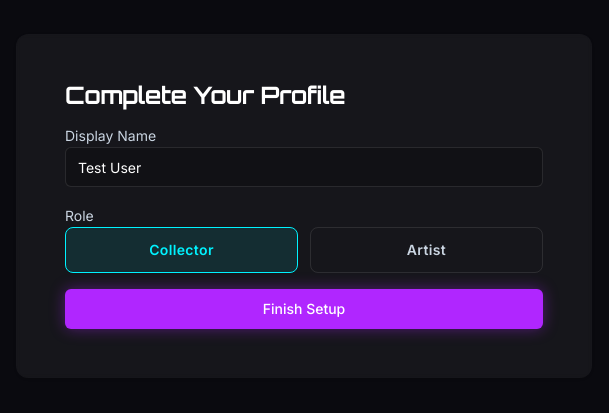
Test: OnboardingPage in Normal Mode › should handle fetch exception
Expected: the field with placeholder "Your name" holds "Test User", [65,147,543,187]
What coordinates should you click on to do the following:
click the button "Finish Setup"
I would click on:
 (304, 309)
Its box is [65,289,543,329].
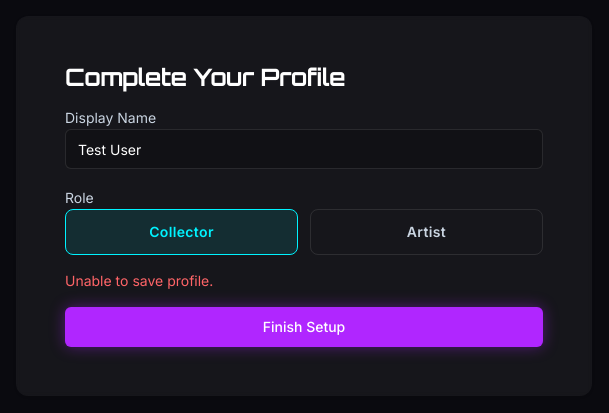
Result: the text "Unable to save profile." is shown at [65,272,213,289]
